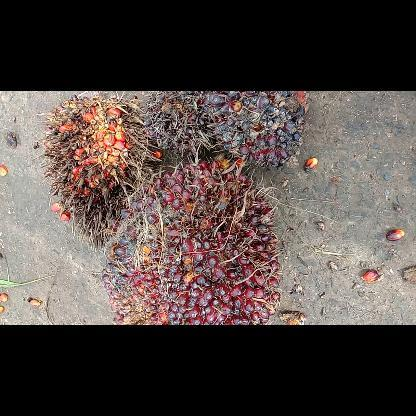TBS abnormal: (205, 91, 311, 169), (143, 90, 215, 156)
TBS masak: (100, 160, 284, 324)
Terlalu masak: (35, 91, 159, 255)
